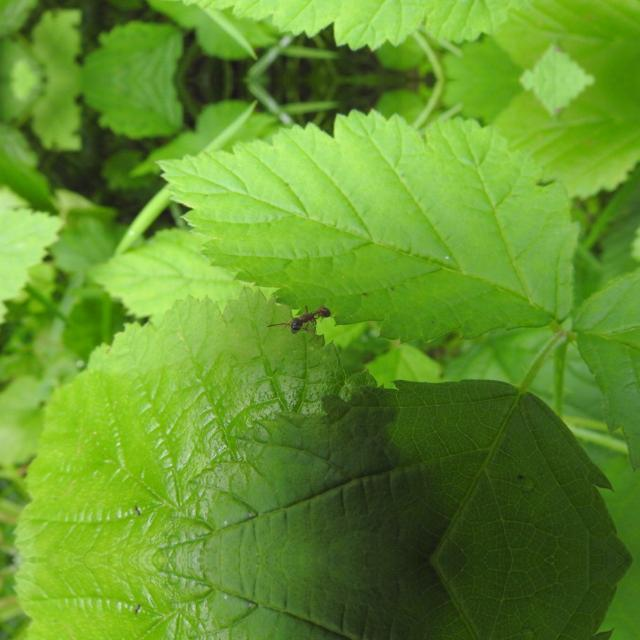Myrmica: (280, 292, 336, 344)
